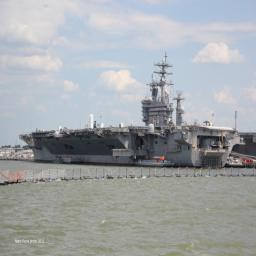Portanaves: (19, 50, 247, 171)
